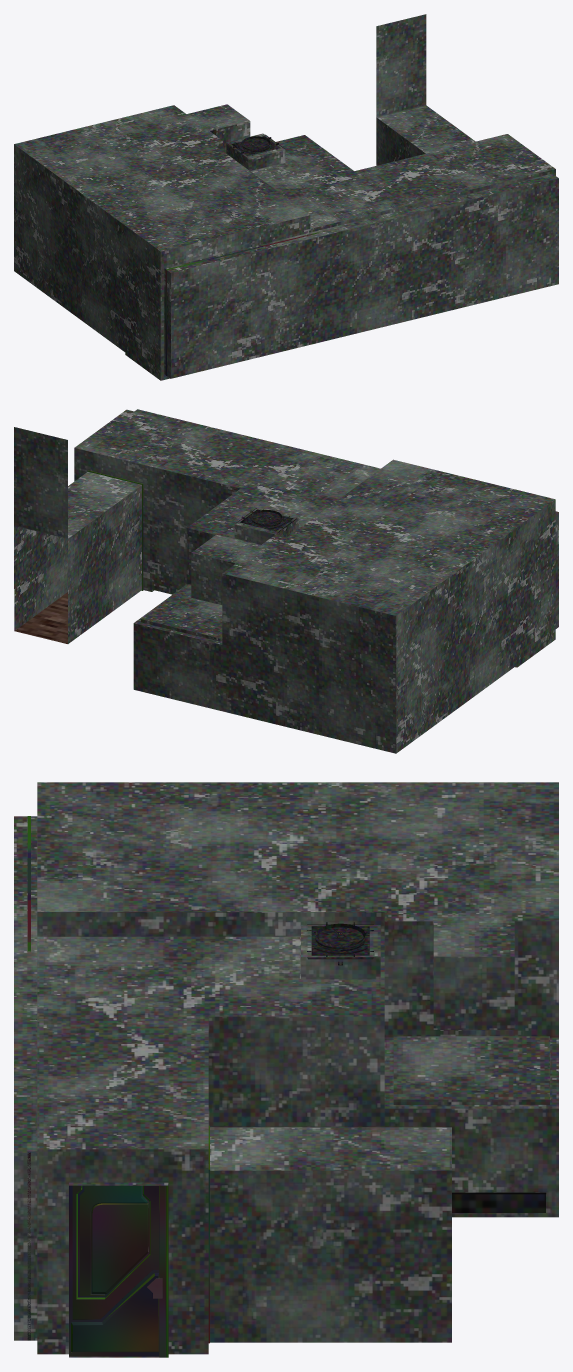
File: Room.fbx
3 views of the same model, one above another, from view 1: azimuth 30°, elevation 25°; view 2: azimuth 150°, elevation 25°; view 3: azimuth 270°, elevation 25° (orthographic). The views are drawn at different scales.
Parts seen in each view (by area): view 1: Walls&Floors_low, Airlock, DecorativePanels; view 2: Walls&Floors_low, Airlock; view 3: Walls&Floors_low, Door_low, Airlock, BedFrame, DecorativePanels.
Part boxes in pixels (x1=…): Walls&Floors_low: x1=14, y1=14, x2=558, y2=380; Airlock: x1=228, y1=134, x2=284, y2=157; DecorativePanels: x1=165, y1=231, x2=324, y2=375; Walls&Floors_low: x1=14, y1=409, x2=558, y2=753; Airlock: x1=236, y1=508, x2=297, y2=533; Walls&Floors_low: x1=14, y1=782, x2=558, y2=1357; Door_low: x1=69, y1=1184, x2=168, y2=1357; Airlock: x1=307, y1=922, x2=373, y2=965; BedFrame: x1=452, y1=1192, x2=546, y2=1212; DecorativePanels: x1=27, y1=816, x2=30, y2=1340.
Size of the model in its own units: 907 by 410 by 604.
